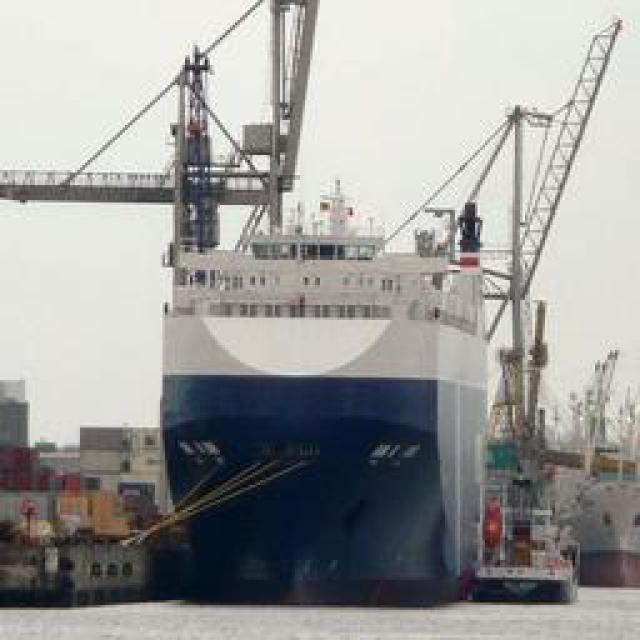Ship: (140, 9, 633, 619)
